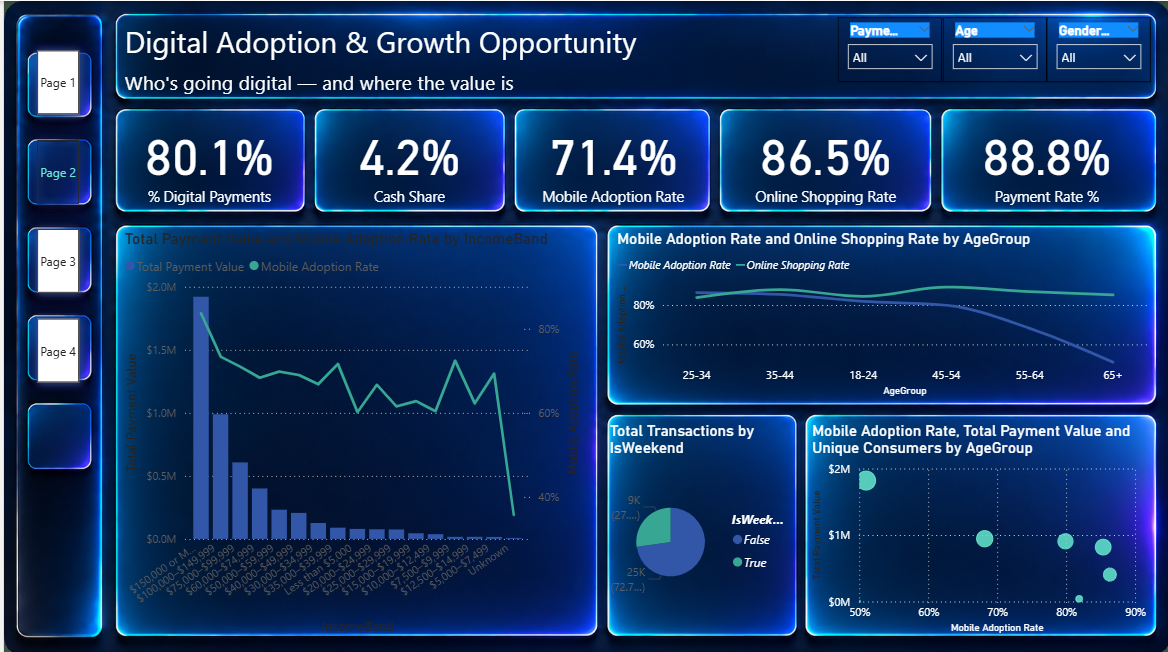

The page's visual inventory and layout, read from the dashboard file:
{"tool":"powerbi","page":{"name":"Page 2","canvas":[1280,720],"ordinal":1},"visuals":[{"type":"card","fields":{"Values":["_Measures.% Digital Payments"]},"box":[131,122.1,190.6,108.7],"z":0},{"type":"card","fields":{"Values":["_Measures.Cash Share"]},"box":[349.9,122.1,190.6,108.7],"z":1000},{"type":"card","fields":{"Values":["_Measures.Mobile Adoption Rate"]},"box":[573.2,122.1,190.6,108.7],"z":2000},{"type":"card","fields":{"Values":["_Measures.Online Shopping Rate"]},"box":[806.9,122.1,190.6,108.7],"z":3000},{"type":"card","fields":{"Values":["_Measures.Payment Rate %"]},"box":[1049.6,122.1,190.6,108.7],"z":4000},{"type":"scatterChart","fields":{"Category":["analytics DimConsumer.AgeGroup"],"X":["_Measures.Mobile Adoption Rate"],"Y":["_Measures.Total Payment Value"],"Size":["_Measures.Unique Consumers"]},"box":[882.8,461.5,376.6,238.2],"z":5000},{"type":"lineChart","fields":{"Category":["analytics DimConsumer.AgeGroup"],"Y":["_Measures.Mobile Adoption Rate","_Measures.Online Shopping Rate"]},"box":[668.4,251.6,591,187.6],"z":6000},{"type":"lineClusteredColumnComboChart","fields":{"Category":["analytics DimConsumer.IncomeBand"],"Y":["_Measures.Total Payment Value"],"Y2":["_Measures.Mobile Adoption Rate"]},"box":[128,251.6,509.1,448.1],"z":7000},{"type":"pieChart","fields":{"Category":["analytics DimDate.IsWeekend"],"Y":["_Measures.Total Transactions"]},"box":[659.5,461.5,209.9,227.8],"z":8000},{"type":"textbox","box":[128,17.9,607.4,52.1],"z":9000},{"type":"textbox","box":[128,70,635.7,38.7],"z":10000},{"type":"slicer","fields":{"Values":["analytics DimConsumer.GenderName"]},"box":[1144.8,17.9,114.6,71.5],"z":11000},{"type":"slicer","fields":{"Values":["analytics DimConsumer.Age"]},"box":[1030.2,17.9,114.6,71.5],"z":12000},{"type":"slicer","fields":{"Values":["analytics DimPaymentMethod.PaymentCategory"]},"box":[915.6,17.9,114.6,71.5],"z":13000},{"type":"pageNavigator","box":[26.8,44.7,64,384.1],"z":13001}]}

Visuals, with their boxes in screenshot pixels (x1, y1, x2, y2), scaled from the page's 1280x720 canvas onto the 1168x652 screenshot:
card - _Measures.% Digital Payments: region(120, 111, 293, 209)
card - _Measures.Cash Share: region(319, 111, 493, 209)
card - _Measures.Mobile Adoption Rate: region(523, 111, 697, 209)
card - _Measures.Online Shopping Rate: region(736, 111, 910, 209)
card - _Measures.Payment Rate %: region(958, 111, 1132, 209)
scatterChart - analytics DimConsumer.AgeGroup x _Measures.Mobile Adoption Rate: region(806, 418, 1149, 634)
lineChart - analytics DimConsumer.AgeGroup x _Measures.Mobile Adoption Rate: region(610, 228, 1149, 398)
lineClusteredColumnComboChart - analytics DimConsumer.IncomeBand x _Measures.Total Payment Value: region(117, 228, 581, 634)
pieChart - analytics DimDate.IsWeekend x _Measures.Total Transactions: region(602, 418, 793, 624)
textbox: region(117, 16, 671, 63)
textbox: region(117, 63, 697, 98)
slicer - analytics DimConsumer.GenderName: region(1045, 16, 1149, 81)
slicer - analytics DimConsumer.Age: region(940, 16, 1045, 81)
slicer - analytics DimPaymentMethod.PaymentCategory: region(835, 16, 940, 81)
pageNavigator: region(24, 40, 83, 388)
